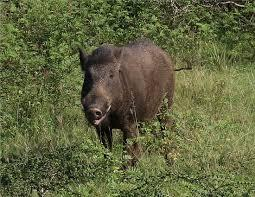wildboar: (74, 36, 179, 168)
